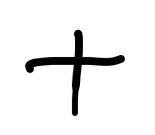plus: (25, 29, 124, 117)
